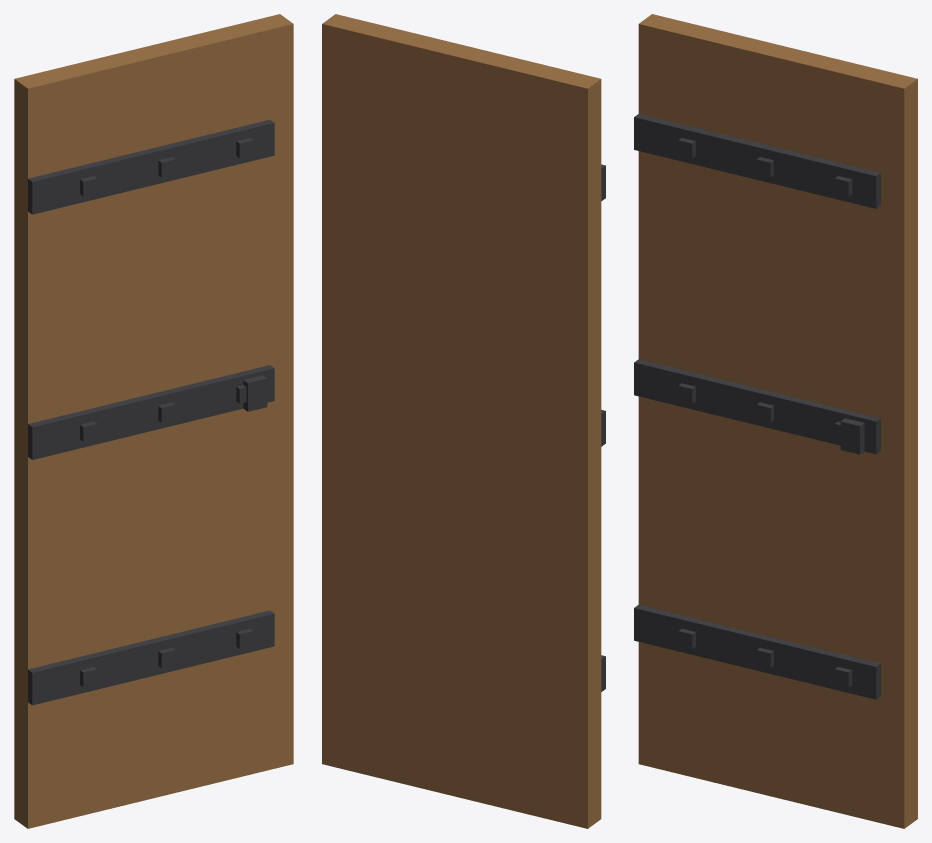
Rendered from Door.fbx.
The picture shows the model from 3 angles, left to right: view 1: azimuth 30°, elevation 25°; view 2: azimuth 150°, elevation 25°; view 3: azimuth 330°, elevation 25°; orthographic projection.
Visible parts, largest first — view 1: Kit_Door; view 2: Kit_Door; view 3: Kit_Door.
Boxes of the visible parts, x1,y1,x2,y2 form: Kit_Door: (14,14,293,828); Kit_Door: (322,14,605,828); Kit_Door: (634,14,917,828).
Bounding box in the file's own units: 0.68 × 1.81 × 0.1.
